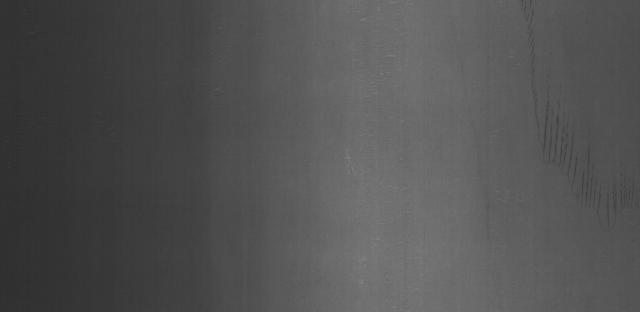water_spot: (516, 1, 634, 232)
